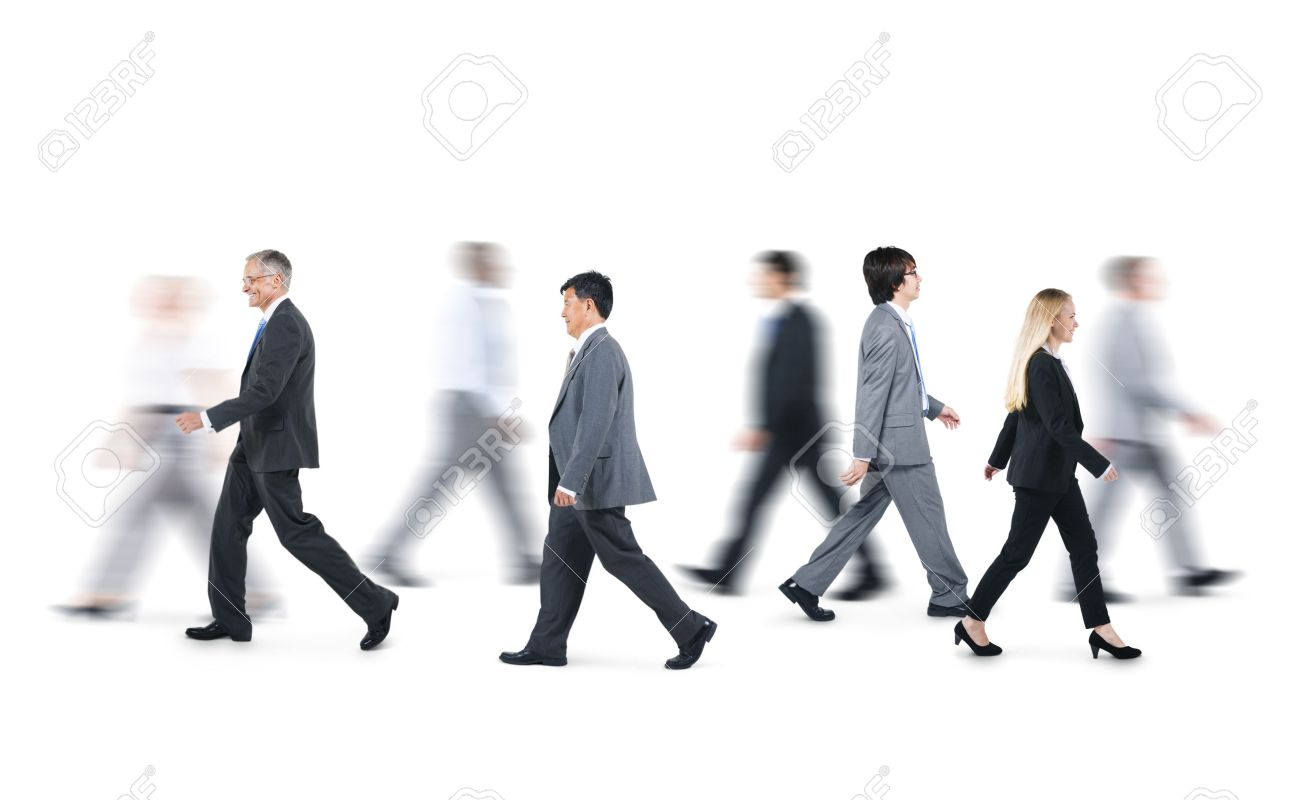NOTSAFE: (546, 267, 644, 507), (232, 245, 319, 482), (858, 247, 939, 467), (1008, 287, 1089, 498)
